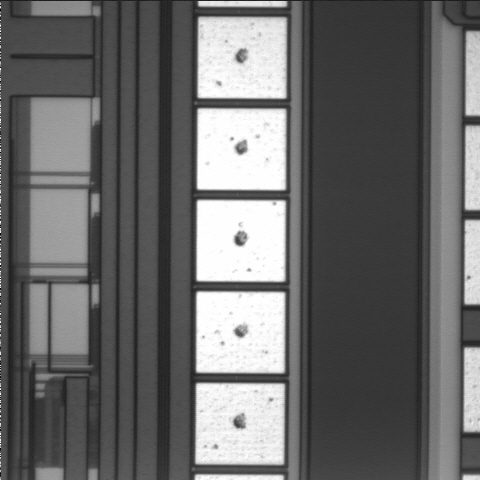pad: (195, 383, 285, 465), (197, 108, 286, 190), (197, 200, 286, 282), (198, 17, 286, 99), (196, 292, 285, 373)
